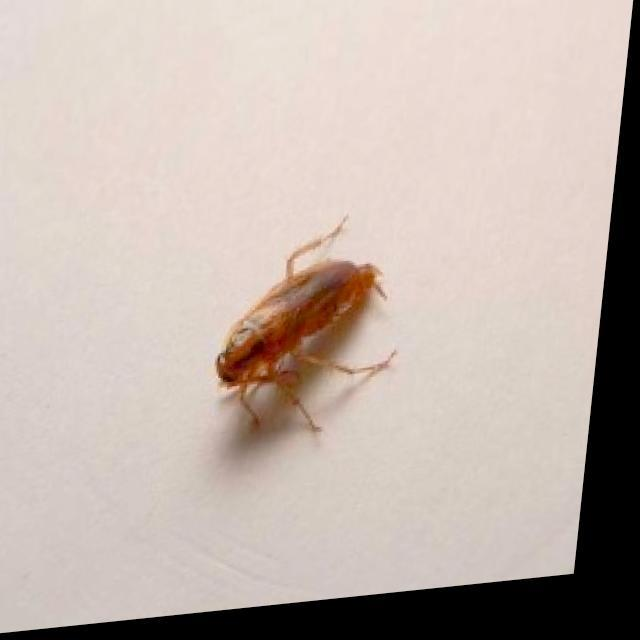cockroach: (210, 211, 400, 440)
